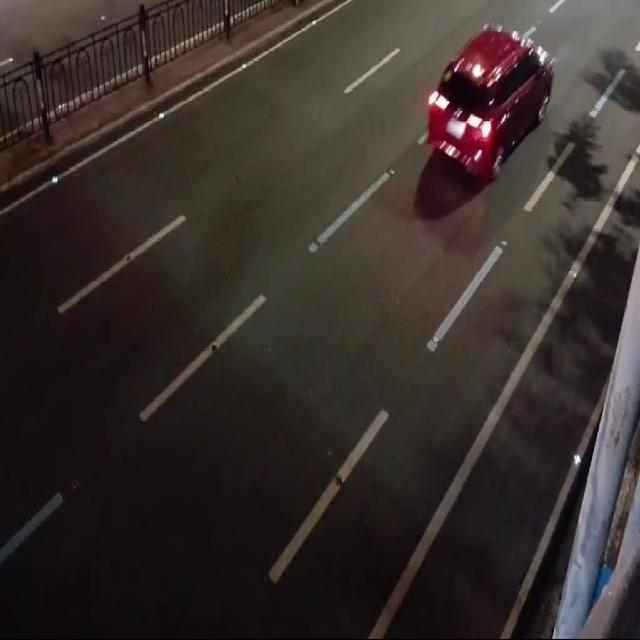car: (426, 33, 558, 186)
